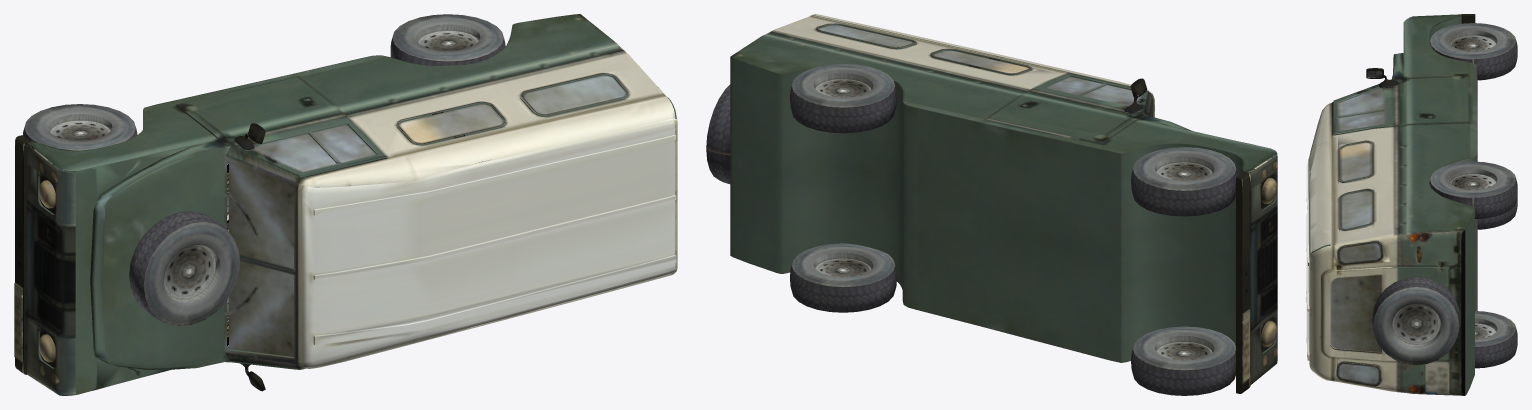
Rendered from jeep.obj.
The picture shows the model from 3 angles, left to right: view 1: azimuth 30°, elevation 25°; view 2: azimuth 150°, elevation 25°; view 3: azimuth 270°, elevation 25°; orthographic projection. The views are drawn at different scales.
Parts seen in each view (by area): view 1: Cylinder02; view 2: Cylinder02; view 3: Cylinder02.
Boxes of the visible parts, left/top/right/bottom form: Cylinder02: left=14, top=14, right=677, bottom=395; Cylinder02: left=706, top=14, right=1277, bottom=395; Cylinder02: left=1306, top=14, right=1517, bottom=395.
Bounding box in the file's own units: 1930 × 815 × 772.
